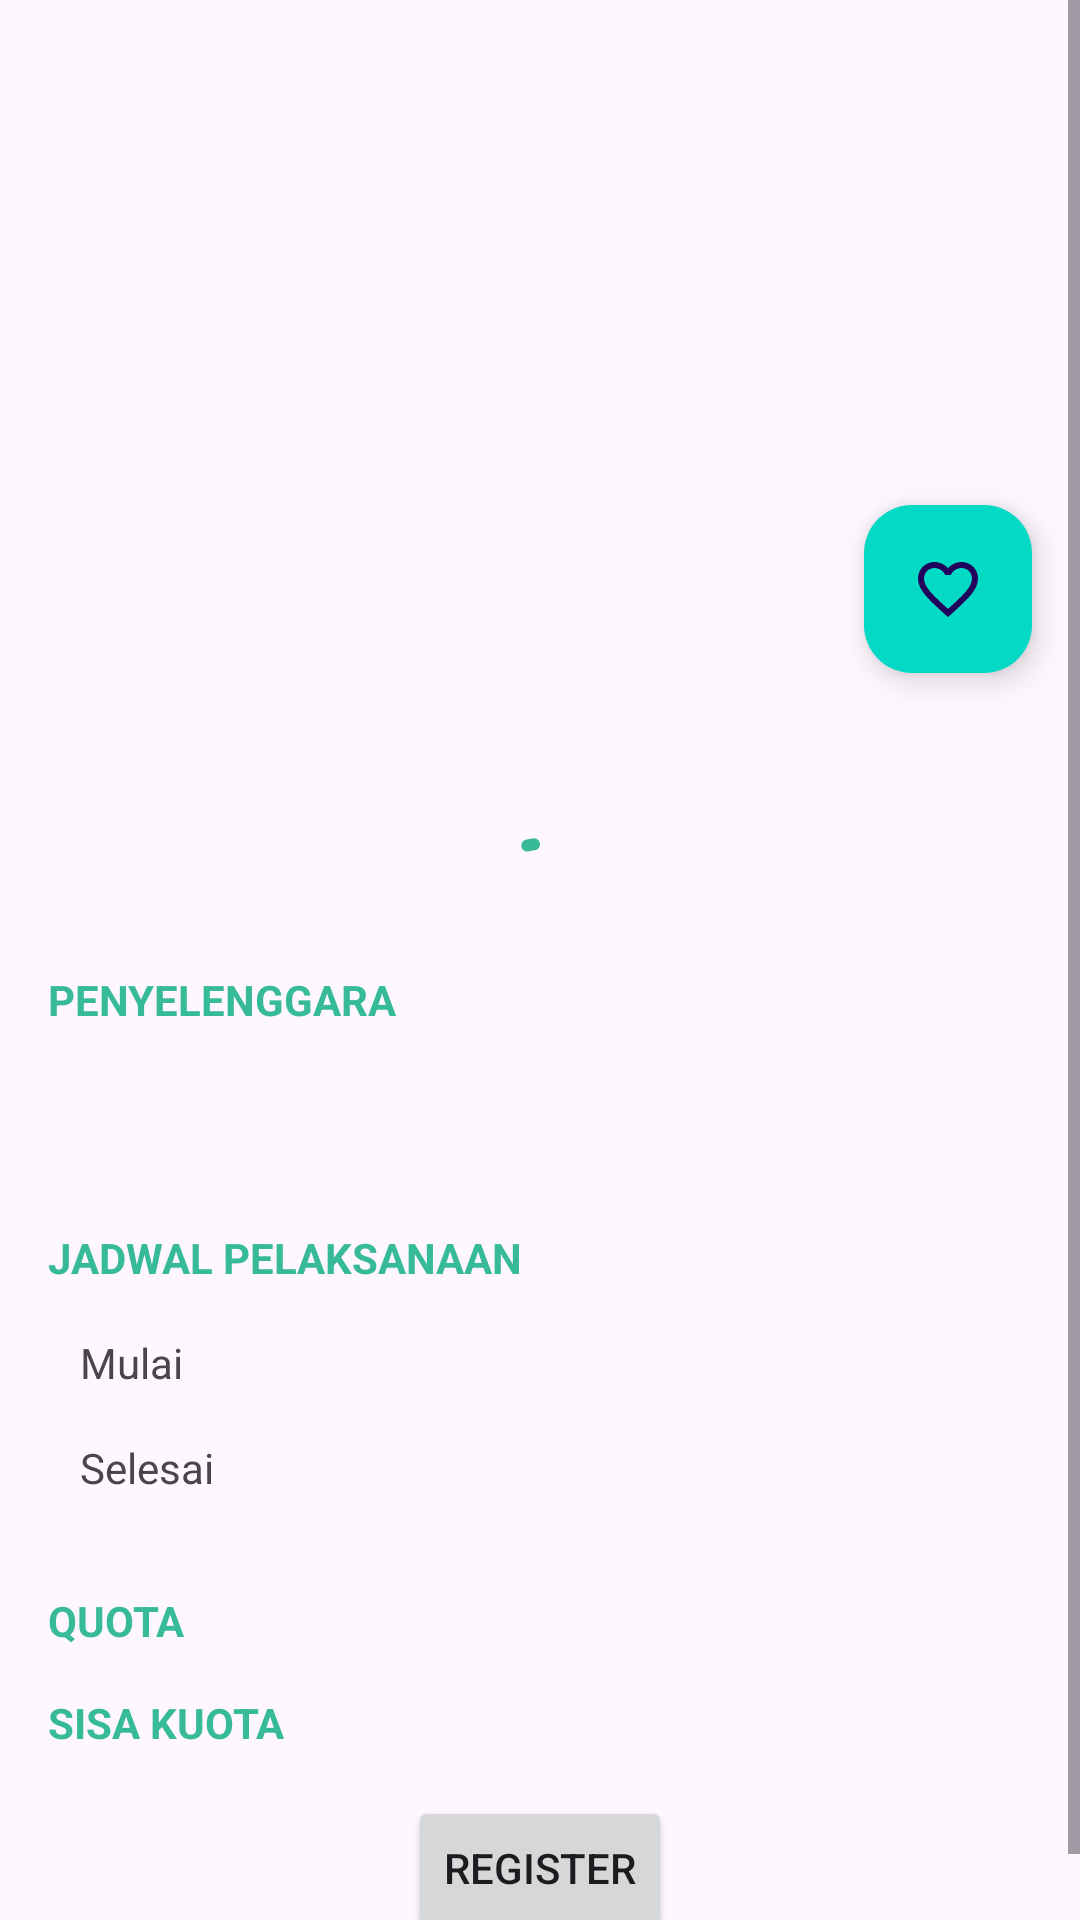

Named icons in this screenshot (1080px×1920px) and their centers, [x,y]:
Favourite: [948,589]
